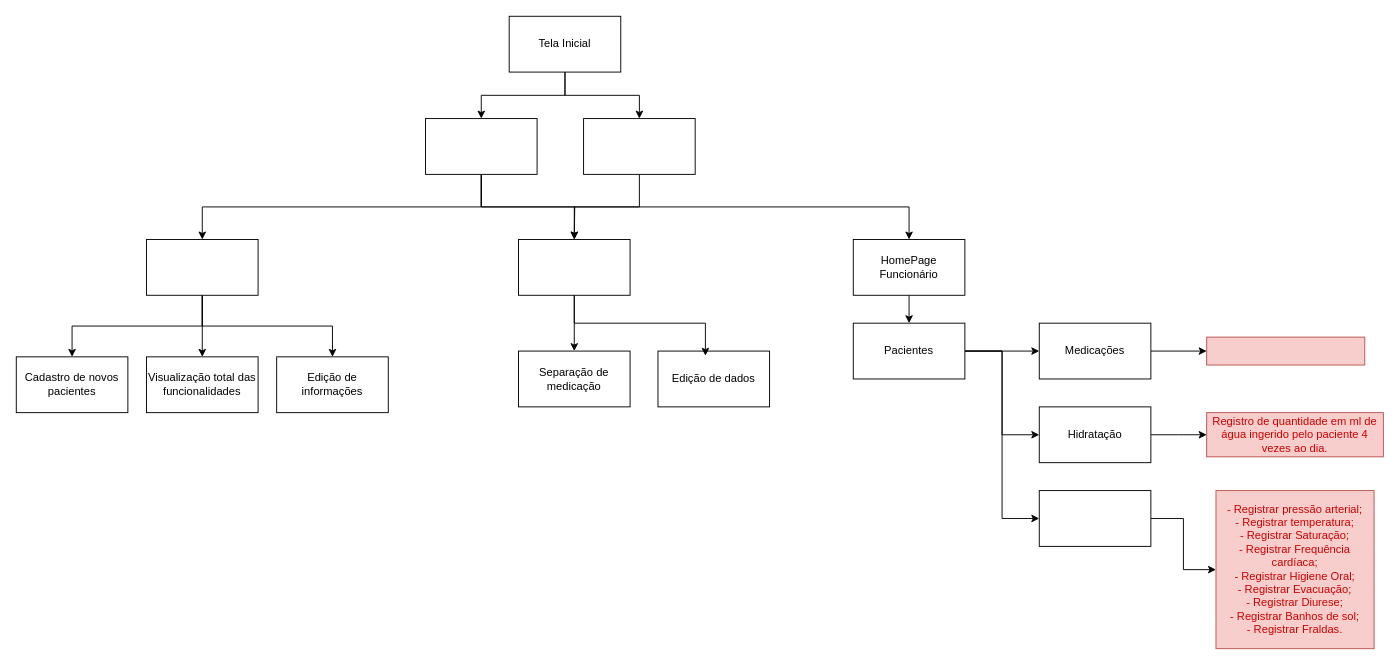
This 1400x665 diagram has some shape labels left out. Each missing label, with the centre of its shape:
"Cadastro" goes at [639,146].
"Confirmação da medicação dada ao paciente" goes at [1285,350].
"HomePage Médico" goes at [574,267].
"HomePage Usuário" goes at [202,267].
"Login" goes at [481,146].
"Registro diário" goes at [1094,518].
